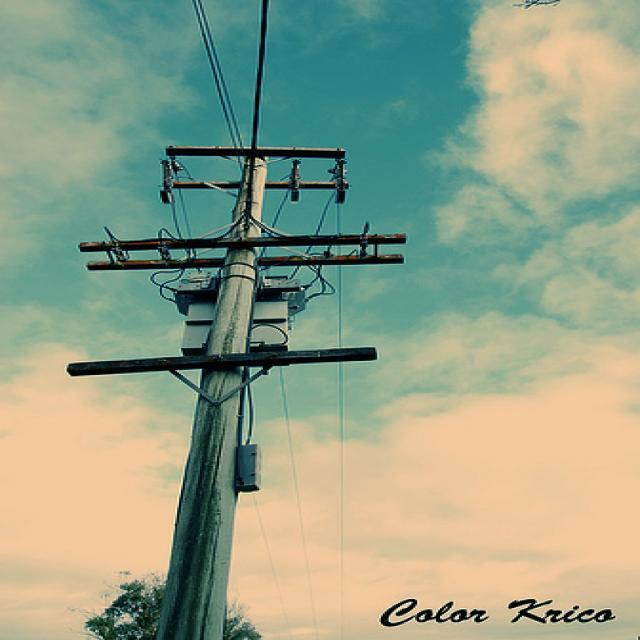crossarm: (60, 347, 378, 376), (80, 251, 392, 271), (85, 237, 403, 256), (137, 142, 352, 157), (166, 185, 349, 200)
pole: (151, 157, 267, 640)
transformer: (176, 278, 300, 352), (239, 445, 263, 490)
wire: (189, 0, 236, 141), (337, 209, 350, 640), (252, 0, 269, 153)
